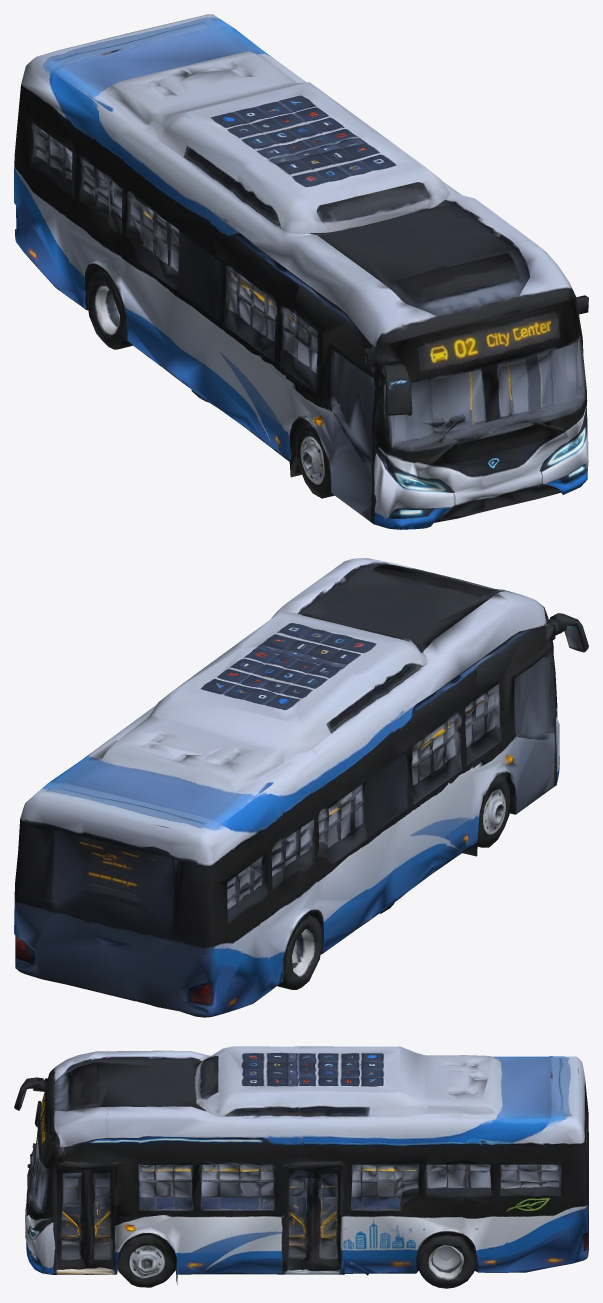
The model's file is city_bus.glb.
The picture shows the model from 3 angles, top to bottom: view 1: azimuth 30°, elevation 25°; view 2: azimuth 150°, elevation 25°; view 3: azimuth 270°, elevation 25°; orthographic projection. The views are drawn at different scales.
Visible parts, largest first — view 1: tripo_node_8a4de283-d6d5-4c0d-bf68-76a37008b9fc; view 2: tripo_node_8a4de283-d6d5-4c0d-bf68-76a37008b9fc; view 3: tripo_node_8a4de283-d6d5-4c0d-bf68-76a37008b9fc.
Boxes of the visible parts, <box> form: tripo_node_8a4de283-d6d5-4c0d-bf68-76a37008b9fc: <box>14,14,588,529</box>; tripo_node_8a4de283-d6d5-4c0d-bf68-76a37008b9fc: <box>14,558,588,1017</box>; tripo_node_8a4de283-d6d5-4c0d-bf68-76a37008b9fc: <box>14,1046,588,1288</box>.
Size of the model in its own units: 0.3369 by 0.3507 by 0.9984.
1 material, 1 textured.
